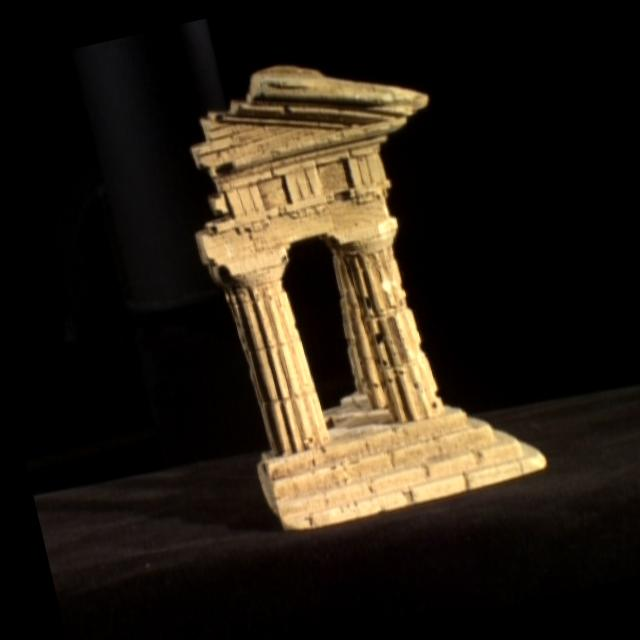Instance-Segmentation: (191, 66, 545, 529)
